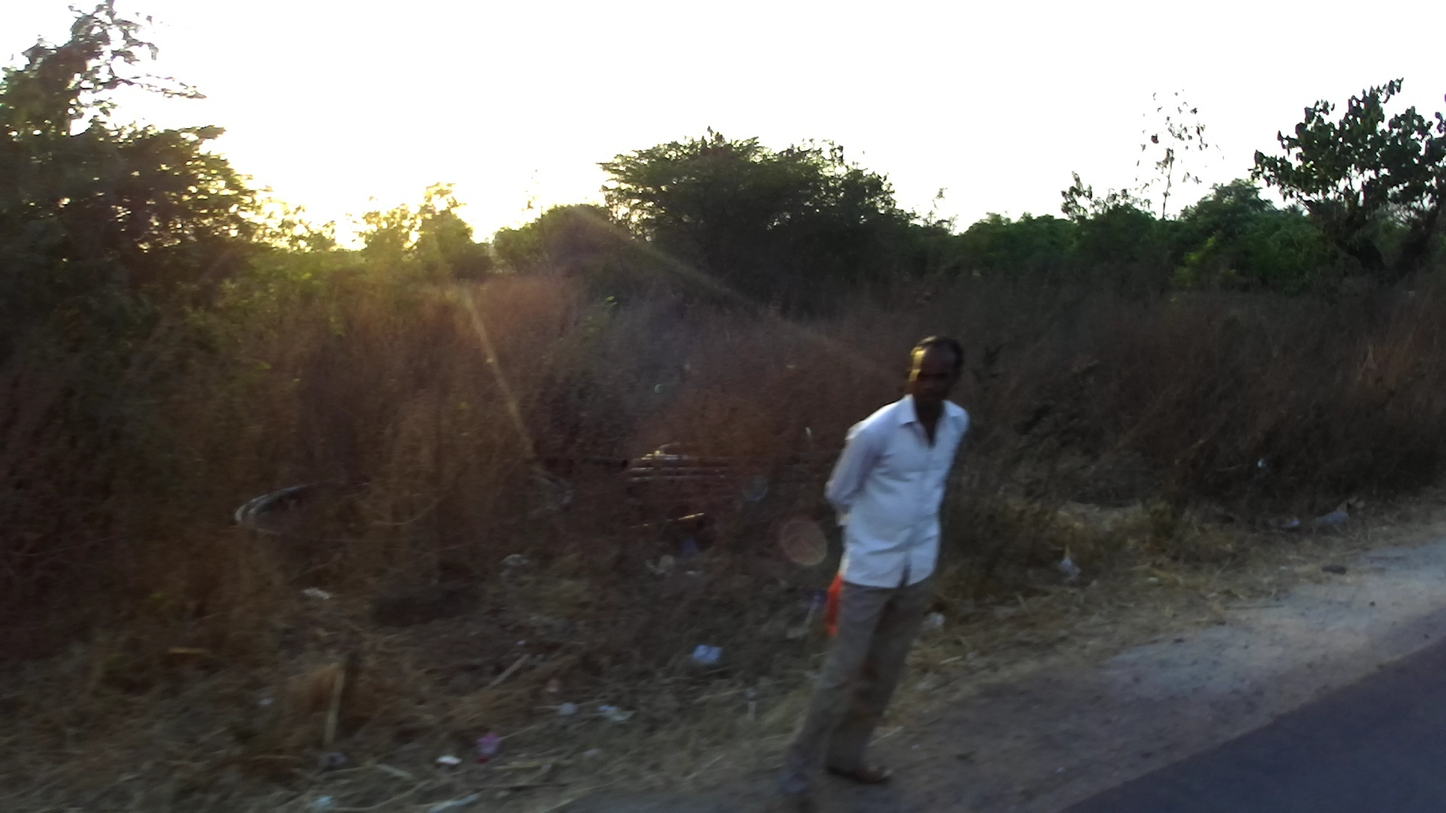person: (774, 334, 972, 813)
